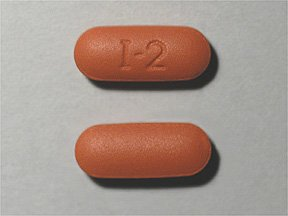Ibuprofen 200 MG Oral Tablet: (72, 22, 217, 91), (73, 119, 217, 185)
